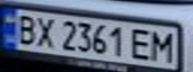1: (106, 24, 130, 57)
2: (54, 17, 78, 52)
3: (72, 20, 93, 54)
6: (90, 21, 109, 56)
B: (9, 11, 39, 45)
E: (127, 26, 157, 61)
M: (148, 29, 178, 63)
X: (30, 15, 57, 48)
